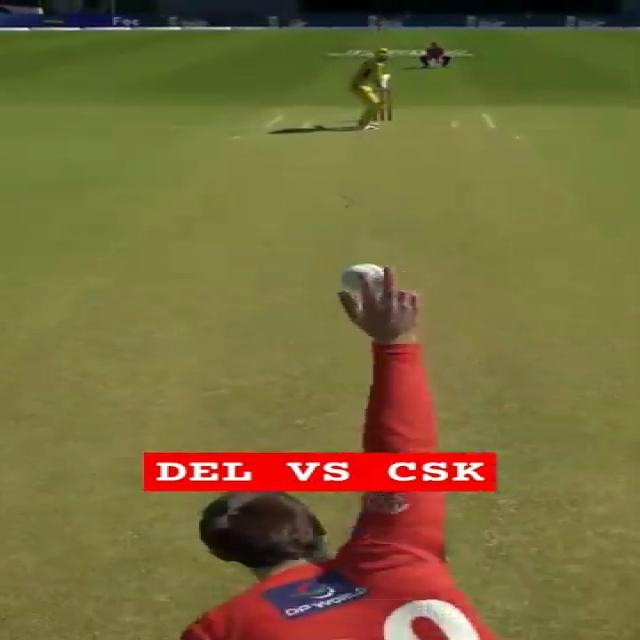ball: (338, 262, 382, 293)
